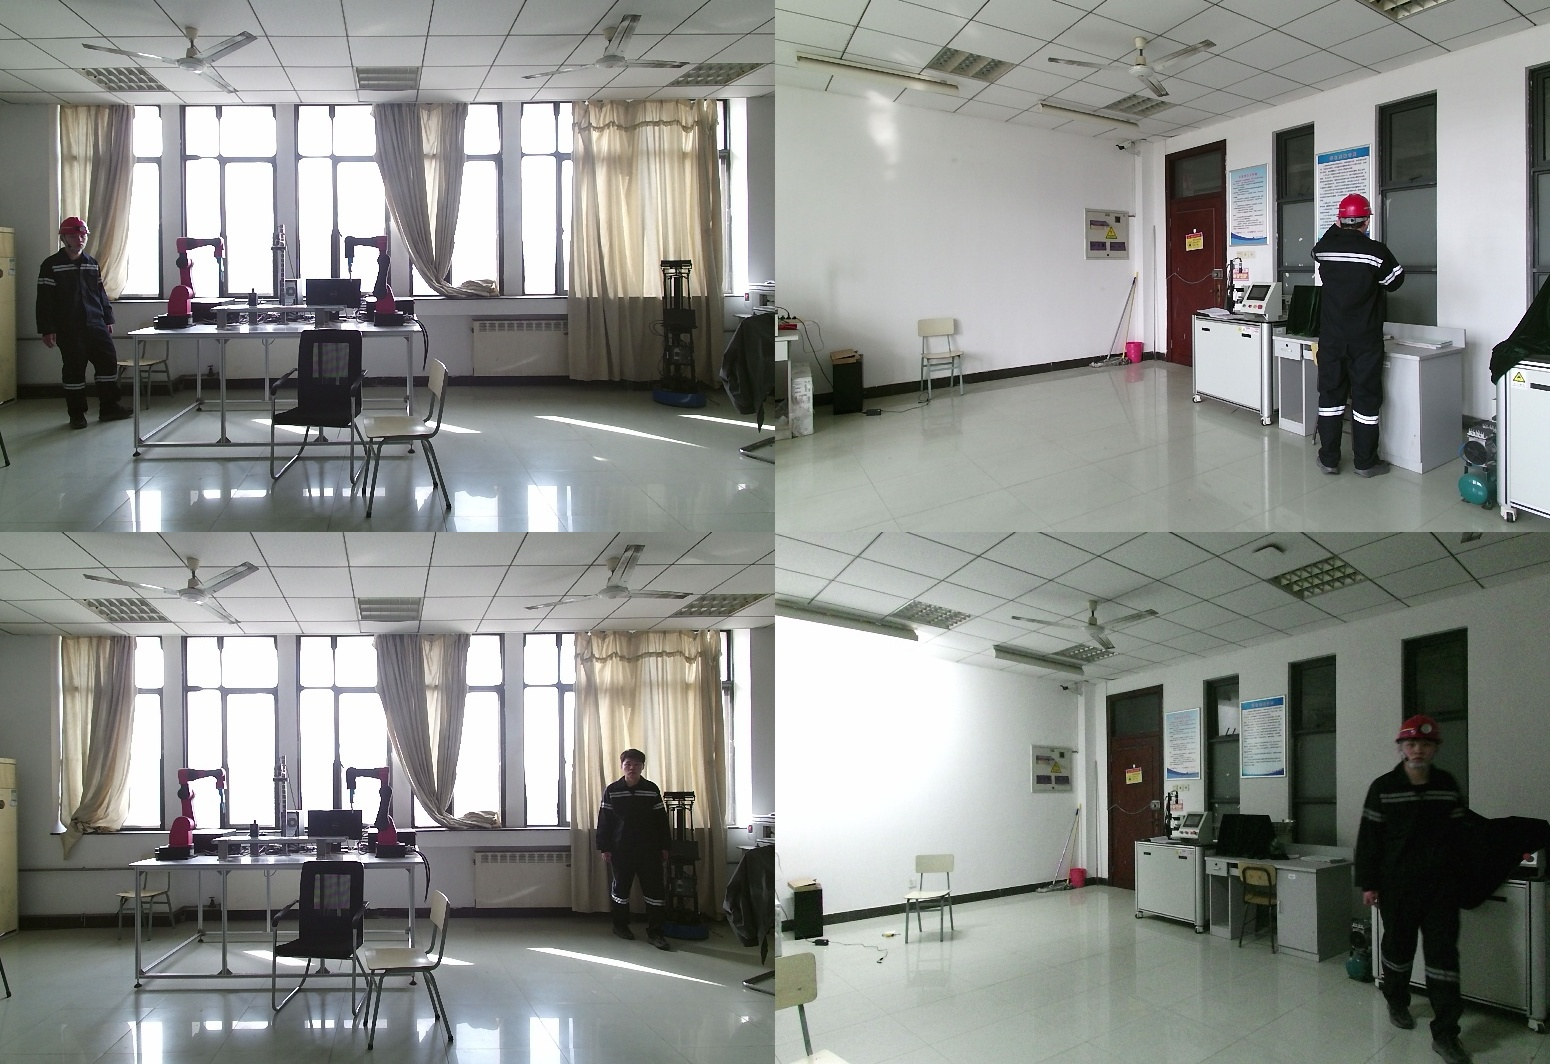person: (1354, 719, 1478, 1050), (1307, 193, 1426, 474), (31, 219, 134, 429), (596, 750, 683, 946)
